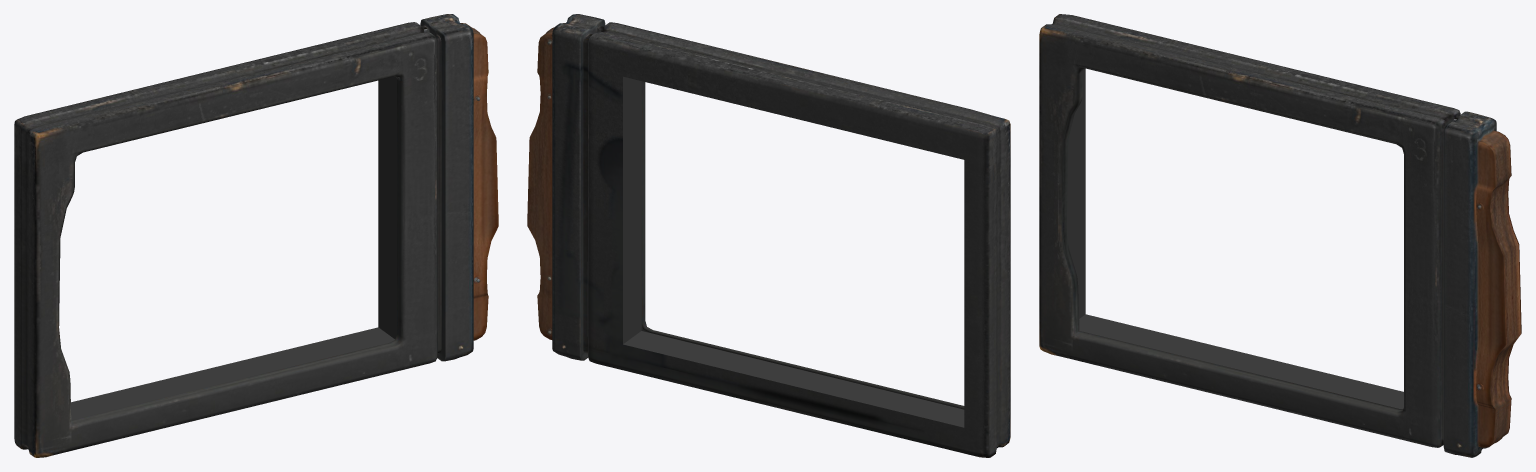
The model's file is photo-plate.glb.
3 views of the same model, side by side, from view 1: azimuth 30°, elevation 25°; view 2: azimuth 150°, elevation 25°; view 3: azimuth 330°, elevation 25° (orthographic).
Visible parts, largest first — view 1: photo-plate; view 2: photo-plate; view 3: photo-plate.
Boxes of the visible parts, x1,y1,x2,y2 form: photo-plate: (14, 14, 498, 457); photo-plate: (527, 14, 1010, 457); photo-plate: (1039, 14, 1521, 457).
Size of the model in its own units: 1.36 by 0.9204 by 0.1356.
1 material, 1 textured.
